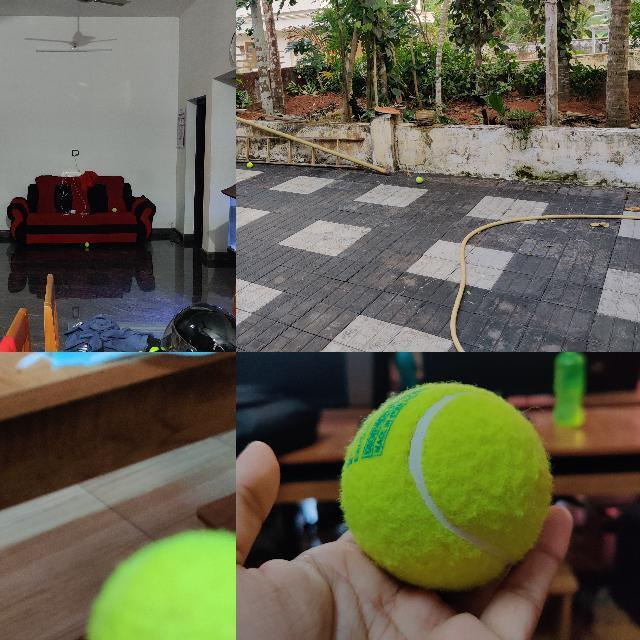tennis-ball: (341, 384, 549, 587), (85, 529, 235, 639), (416, 177, 423, 184), (246, 162, 252, 168), (112, 208, 117, 212), (84, 242, 88, 246)
